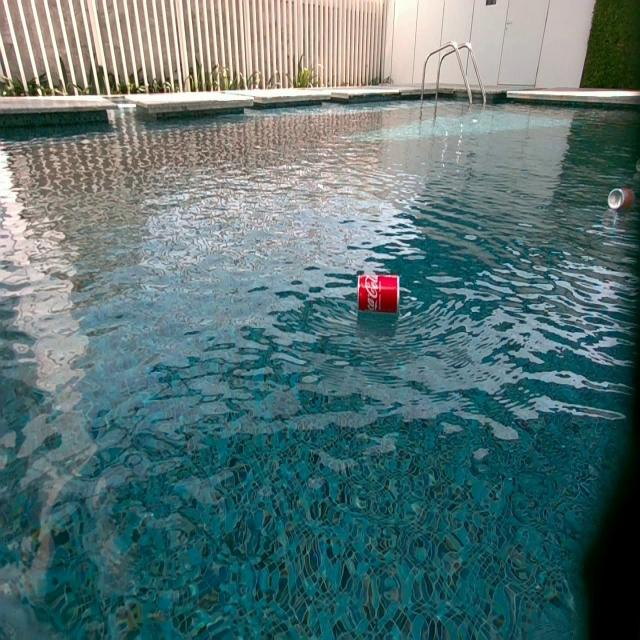Cans: (360, 276, 400, 316), (610, 189, 636, 213)
